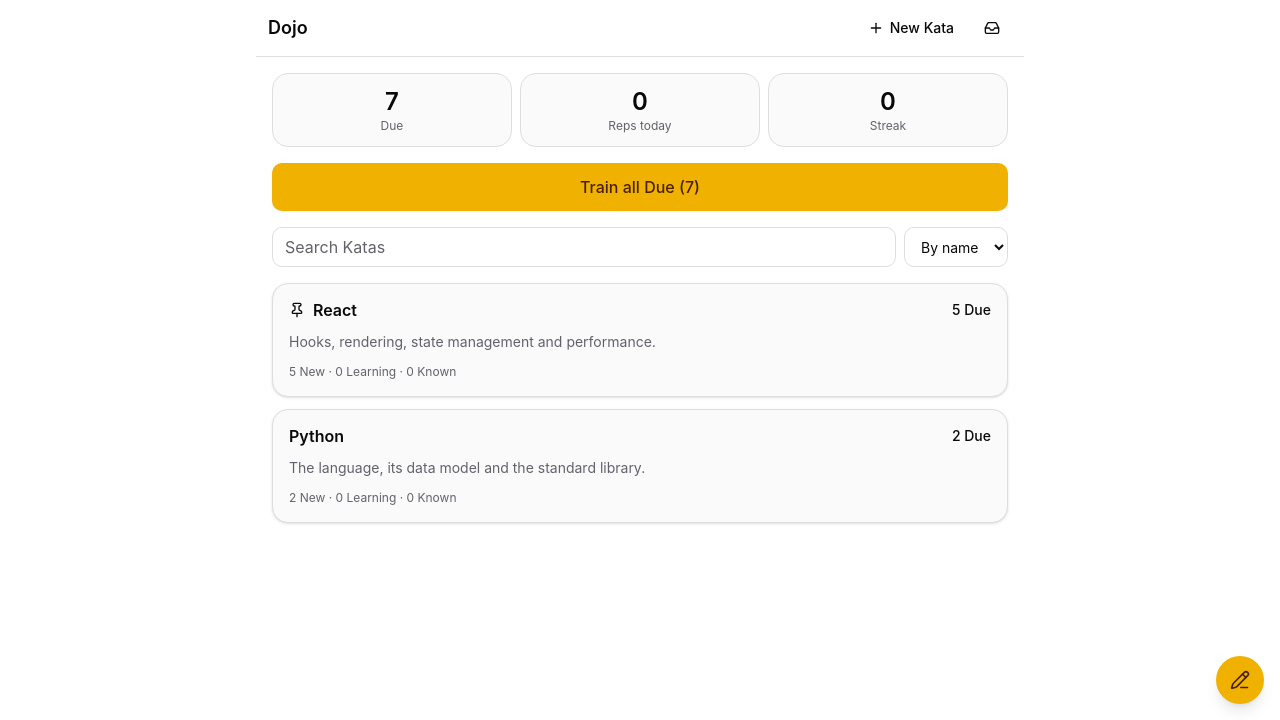
Test: filters › searches Katas by name on Home
This screenshot has width=1280, height=720.
Expected: the list named "Katas" is shown, top-left (272, 283), bottom-right (1008, 523)
Type "py" into the search field labelled "Search Katas" at point(584, 247), box top-left (272, 227), bottom-right (896, 267)
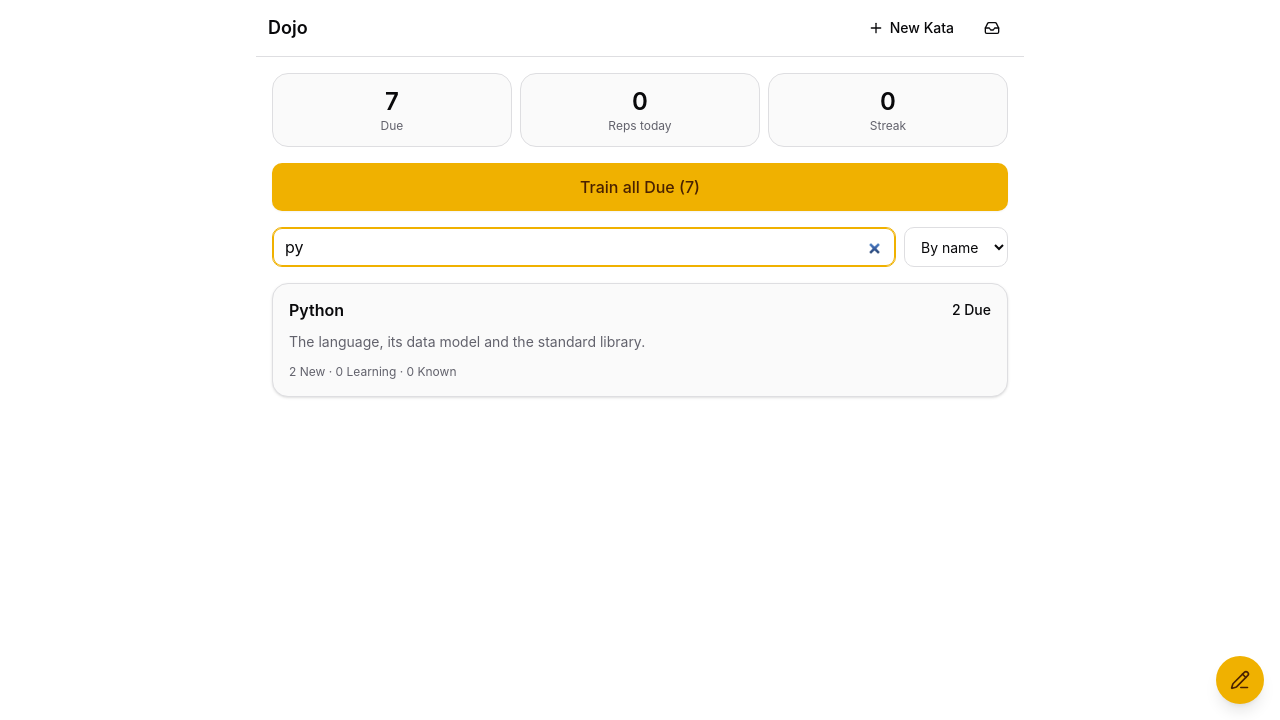
Expected: the number of list items is 1, top-left (272, 283), bottom-right (1008, 397)
